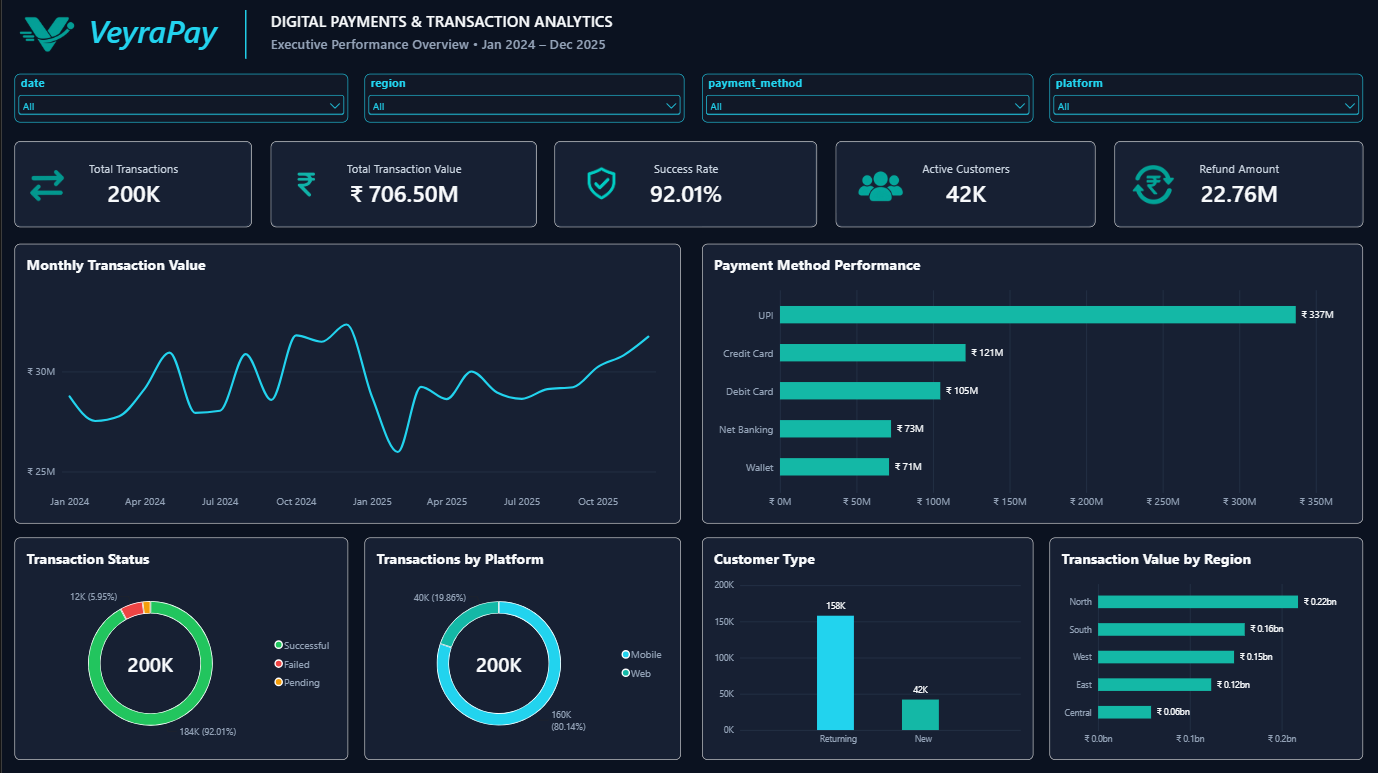

The page's visual inventory and layout, read from the dashboard file:
{"tool":"powerbi","page":{"name":"Page 1","canvas":[1920,1080],"ordinal":0},"visuals":[{"type":"textbox","box":[375,14,490.1,34.9],"z":0},{"type":"textbox","box":[120.3,14,184.9,68],"z":1000},{"type":"textbox","box":[375,48.8,490.1,33.1],"z":2000},{"type":"slicer","fields":{"Values":["veyrapay_analytics dim_date.date"]},"box":[17.4,102.9,465.7,68],"z":3000},{"type":"slicer","fields":{"Values":["veyrapay_analytics dim_geography.region"]},"box":[506.4,102.9,446.5,68],"z":4000},{"type":"slicer","fields":{"Values":["veyrapay_analytics dim_payment_method.payment_method"]},"box":[976.2,102.9,462.2,68],"z":5000},{"type":"slicer","fields":{"Values":["veyrapay_analytics fact_transactions.platform"]},"box":[1461.6,102.9,437.8,68],"z":6000},{"type":"cardVisual","fields":{"Data":["veyrapay_analytics dim_customer.Total Transactions"]},"box":[17.4,197.1,331.4,120.3],"z":7000},{"type":"cardVisual","fields":{"Data":["veyrapay_analytics dim_customer.Total Transaction Value"]},"box":[374.6,197.1,371.5,120.3],"z":8000},{"type":"cardVisual","fields":{"Data":["veyrapay_analytics dim_customer.Success Rate"]},"box":[771.8,197.1,366.3,120.3],"z":9000},{"type":"cardVisual","fields":{"Data":["veyrapay_analytics dim_customer.Active Customers"]},"box":[1163.8,197.1,362.8,120.3],"z":10000},{"type":"cardVisual","fields":{"Data":["veyrapay_analytics dim_customer.Refund Amount"]},"box":[1552.3,197.1,347.1,120.3],"z":11000},{"type":"lineChart","title":"Monthly Transaction Value","fields":{"Y":["veyrapay_analytics dim_customer.Total Transaction Value"],"Category":["veyrapay_analytics dim_date.Month Start"]},"box":[17.4,340.1,929.7,390.7],"z":12000},{"type":"clusteredBarChart","title":"Payment Method Performance","fields":{"Category":["veyrapay_analytics dim_payment_method.payment_method"],"Y":["veyrapay_analytics dim_customer.Total Transaction Value"]},"box":[976.7,340.1,922.7,390.7],"z":13000},{"type":"donutChart","title":"Transaction Status","fields":{"Category":["veyrapay_analytics fact_transactions.transaction_status"],"Y":["veyrapay_analytics dim_customer.Total Transactions"]},"box":[17.4,750,465.7,310.5],"z":14000},{"type":"clusteredColumnChart","title":"Customer Type","fields":{"Category":["veyrapay_analytics fact_transactions.customer_type"],"Y":["veyrapay_analytics dim_customer.Total Transactions"]},"box":[976.7,750,462.2,310.5],"z":15000},{"type":"clusteredBarChart","title":"Transaction Value by Region","fields":{"Category":["veyrapay_analytics dim_geography.region"],"Y":["veyrapay_analytics dim_customer.Total Transaction Value"]},"box":[1461.6,750,437.8,310.5],"z":16000},{"type":"donutChart","title":"Transactions by Platform","fields":{"Category":["veyrapay_analytics fact_transactions.platform"],"Y":["veyrapay_analytics dim_customer.Total Transactions"]},"box":[505.8,750,441.3,310.5],"z":17000},{"type":"shape","box":[305.2,14,69.8,68],"z":18000},{"type":"image","box":[17.4,197.1,90.7,120.3],"z":19000},{"type":"image","box":[375,197.1,100,120.3],"z":20000},{"type":"image","box":[770.9,197.1,130.8,120.3],"z":21000},{"type":"image","box":[1180.8,197.1,90.7,120.3],"z":22000},{"type":"image","box":[1552.3,197.1,108.1,120.3],"z":23000},{"type":"image","box":[17.4,14,90.7,62.8],"z":24000}]}

Visuals, with their boxes in screenshot pixels (x1, y1, x2, y2), scaled from the page's 1920x1080 canvas onto the 1378x773 screenshot:
textbox: bbox=(269, 10, 621, 35)
textbox: bbox=(86, 10, 219, 59)
textbox: bbox=(269, 35, 621, 59)
slicer - veyrapay_analytics dim_date.date: bbox=(12, 74, 347, 122)
slicer - veyrapay_analytics dim_geography.region: bbox=(363, 74, 684, 122)
slicer - veyrapay_analytics dim_payment_method.payment_method: bbox=(701, 74, 1032, 122)
slicer - veyrapay_analytics fact_transactions.platform: bbox=(1049, 74, 1363, 122)
cardVisual - veyrapay_analytics dim_customer.Total Transactions: bbox=(12, 141, 250, 227)
cardVisual - veyrapay_analytics dim_customer.Total Transaction Value: bbox=(269, 141, 535, 227)
cardVisual - veyrapay_analytics dim_customer.Success Rate: bbox=(554, 141, 817, 227)
cardVisual - veyrapay_analytics dim_customer.Active Customers: bbox=(835, 141, 1096, 227)
cardVisual - veyrapay_analytics dim_customer.Refund Amount: bbox=(1114, 141, 1363, 227)
"Monthly Transaction Value" lineChart: bbox=(12, 243, 680, 523)
"Payment Method Performance" clusteredBarChart: bbox=(701, 243, 1363, 523)
"Transaction Status" donutChart: bbox=(12, 537, 347, 759)
"Customer Type" clusteredColumnChart: bbox=(701, 537, 1033, 759)
"Transaction Value by Region" clusteredBarChart: bbox=(1049, 537, 1363, 759)
"Transactions by Platform" donutChart: bbox=(363, 537, 680, 759)
shape: bbox=(219, 10, 269, 59)
image: bbox=(12, 141, 78, 227)
image: bbox=(269, 141, 341, 227)
image: bbox=(553, 141, 647, 227)
image: bbox=(847, 141, 913, 227)
image: bbox=(1114, 141, 1192, 227)
image: bbox=(12, 10, 78, 55)
